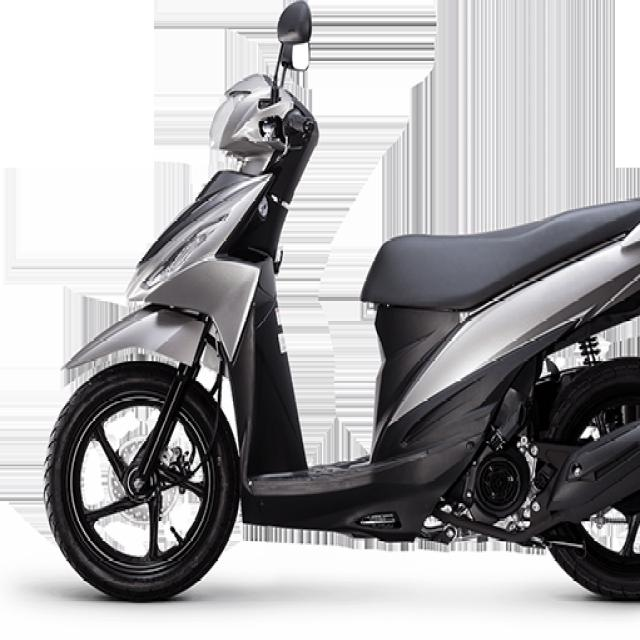Motorcycle: (45, 75, 640, 602)
